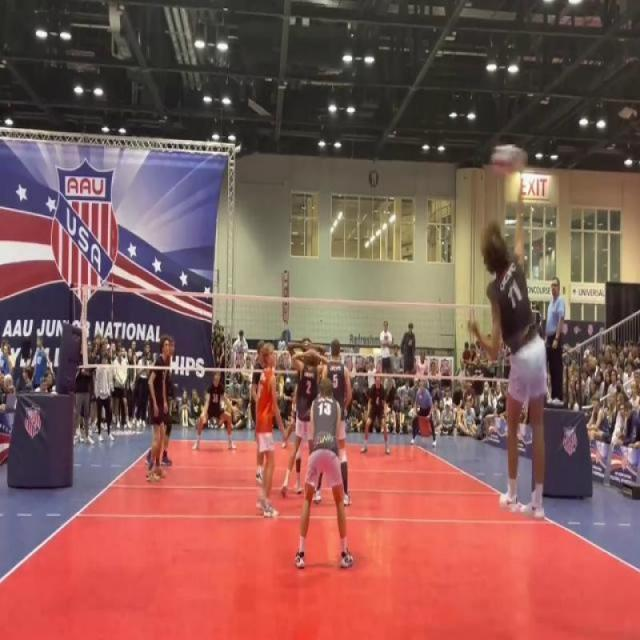volleyball: (488, 142, 530, 179)
